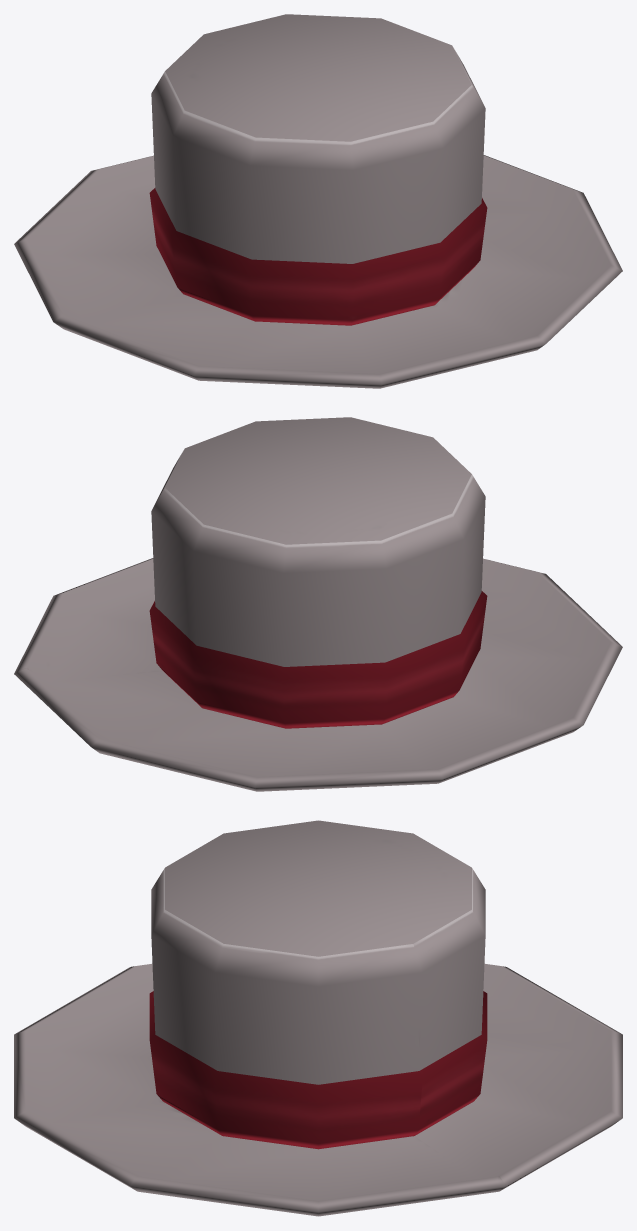
Rendered from Clownhat_3.fbx.
The picture shows the model from 3 angles, top to bottom: view 1: azimuth 30°, elevation 25°; view 2: azimuth 150°, elevation 25°; view 3: azimuth 270°, elevation 25°; orthographic projection. The views are drawn at different scales.
Parts seen in each view (by area): view 1: ClownHat_3; view 2: ClownHat_3; view 3: ClownHat_3.
Boxes of the visible parts, x1,y1,x2,y2 form: ClownHat_3: [14, 14, 622, 388]; ClownHat_3: [14, 417, 622, 791]; ClownHat_3: [14, 820, 622, 1216].
Size of the model in its own units: 2.98 by 1.04 by 2.83.
